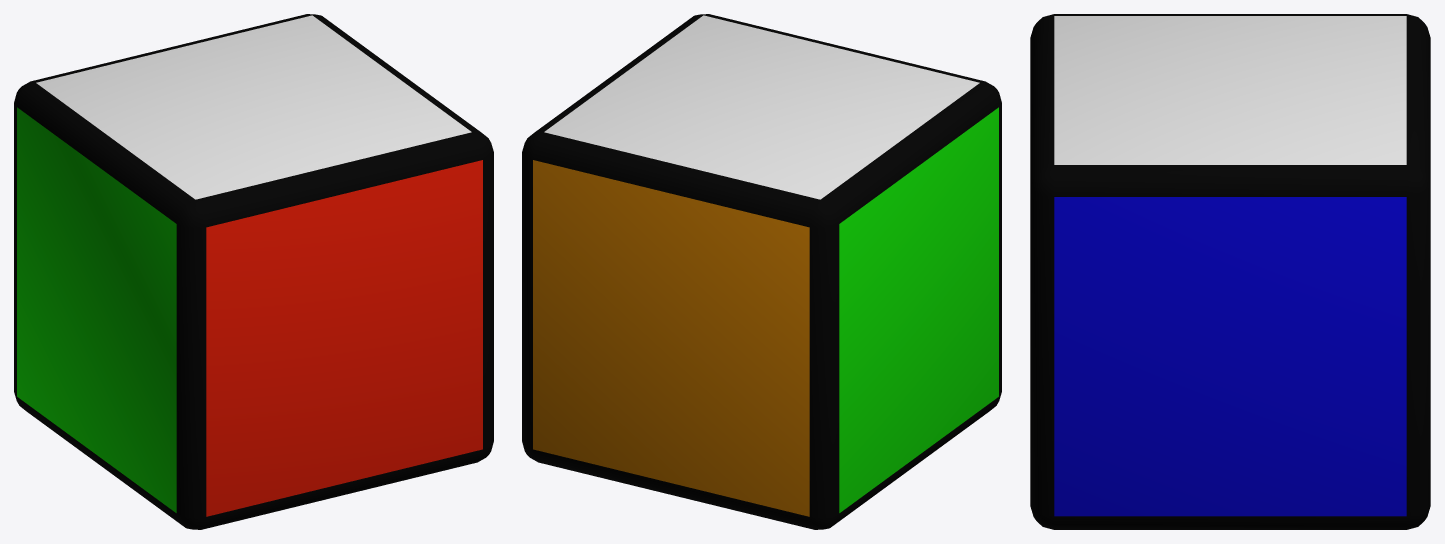
Rendered from rubik.gltf.
3 views of the same model, side by side, from view 1: azimuth 30°, elevation 25°; view 2: azimuth 150°, elevation 25°; view 3: azimuth 270°, elevation 25° (orthographic). The views are drawn at different scales.
Visible parts, largest first — view 1: Cube; view 2: Cube; view 3: Cube.
Boxes of the visible parts, x1,y1,x2,y2 form: Cube: (14,14,493,529); Cube: (522,14,1001,529); Cube: (1030,14,1430,529).
Size of the model in its own units: 1 by 1 by 1.
